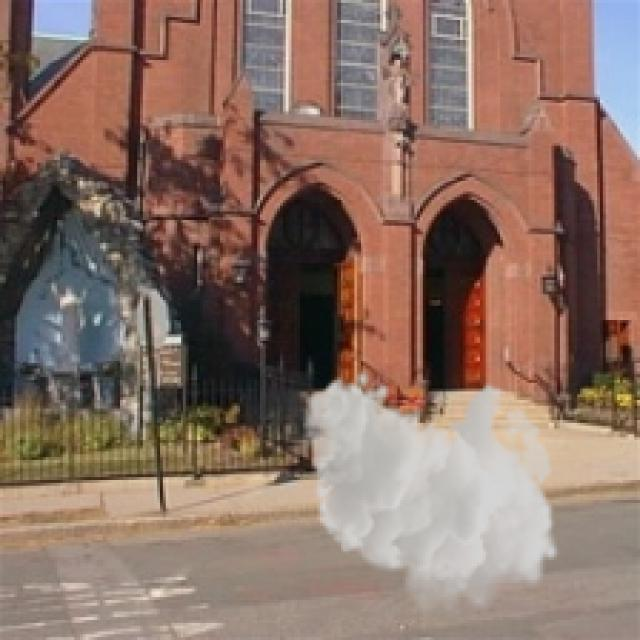Smoke: (303, 368, 560, 620)
